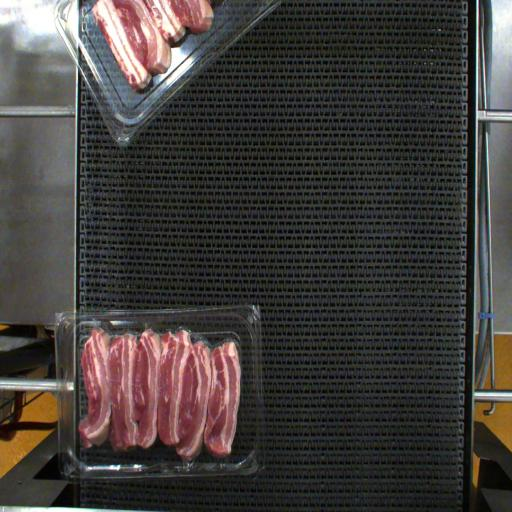unsealed: (82, 318, 248, 404)
